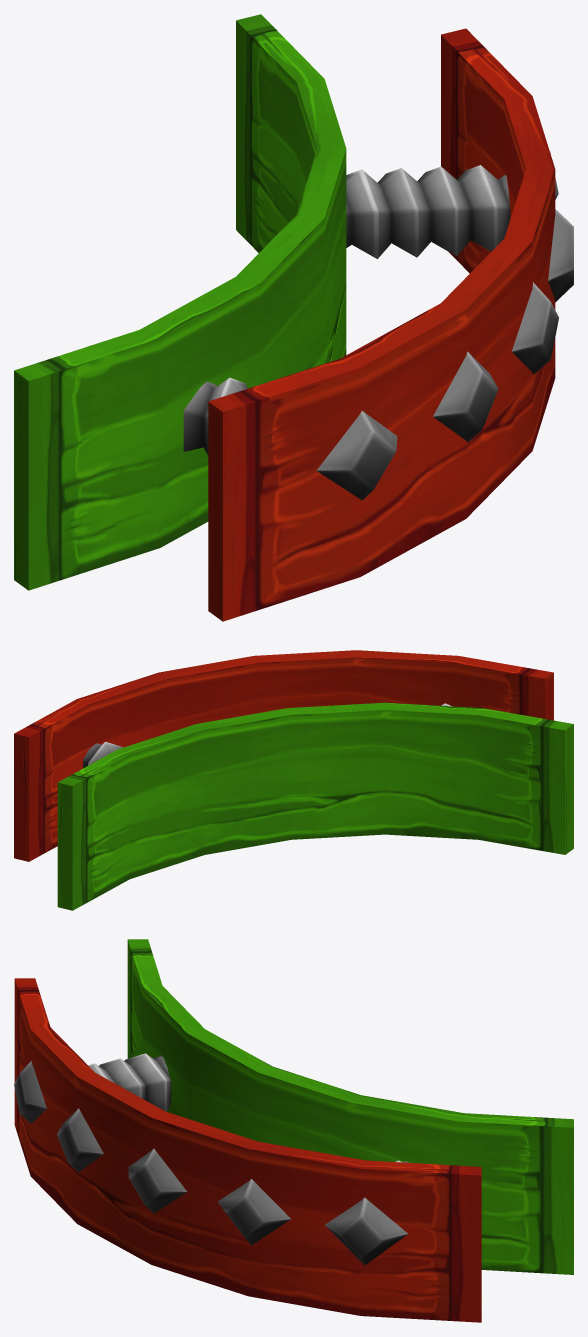
Rendered from arched_fence_burger_03.fbx.
3 renders of one model, top to bottom at view 1: azimuth 30°, elevation 25°; view 2: azimuth 150°, elevation 25°; view 3: azimuth 270°, elevation 25°, orthographic. The views are drawn at different scales.
Parts seen in each view (by area): view 1: arched_fence_burger_03; view 2: arched_fence_burger_03; view 3: arched_fence_burger_03.
Boxes of the visible parts, x1=… form: arched_fence_burger_03: x1=14, y1=14, x2=573, y2=621; arched_fence_burger_03: x1=14, y1=650, x2=573, y2=910; arched_fence_burger_03: x1=14, y1=939, x2=573, y2=1322.
Size of the model in its own units: 139 by 40 by 138.
